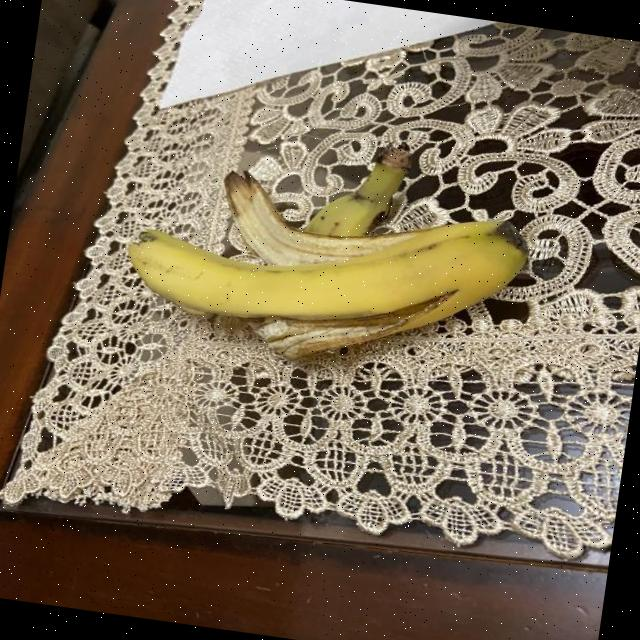banana-peel: (115, 154, 534, 389)
